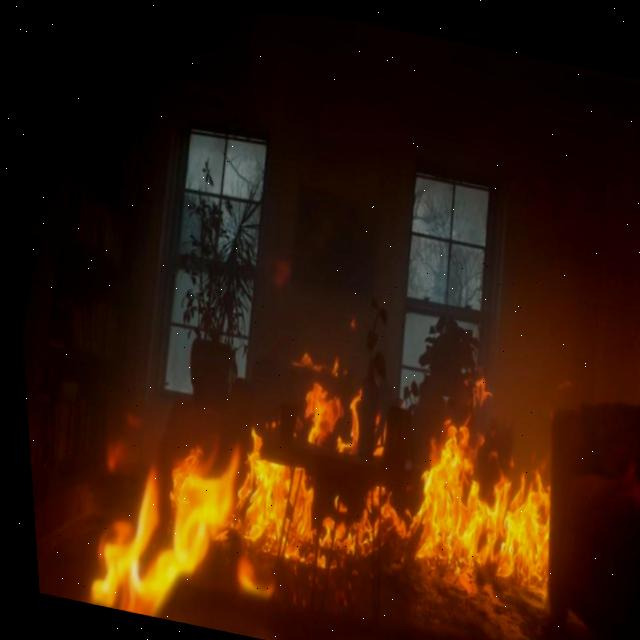fire: (308, 422, 543, 591), (82, 447, 233, 616), (405, 420, 544, 582), (227, 432, 306, 560), (230, 429, 307, 556), (299, 379, 338, 442)
smoke: (15, 2, 640, 602), (148, 499, 591, 640)
